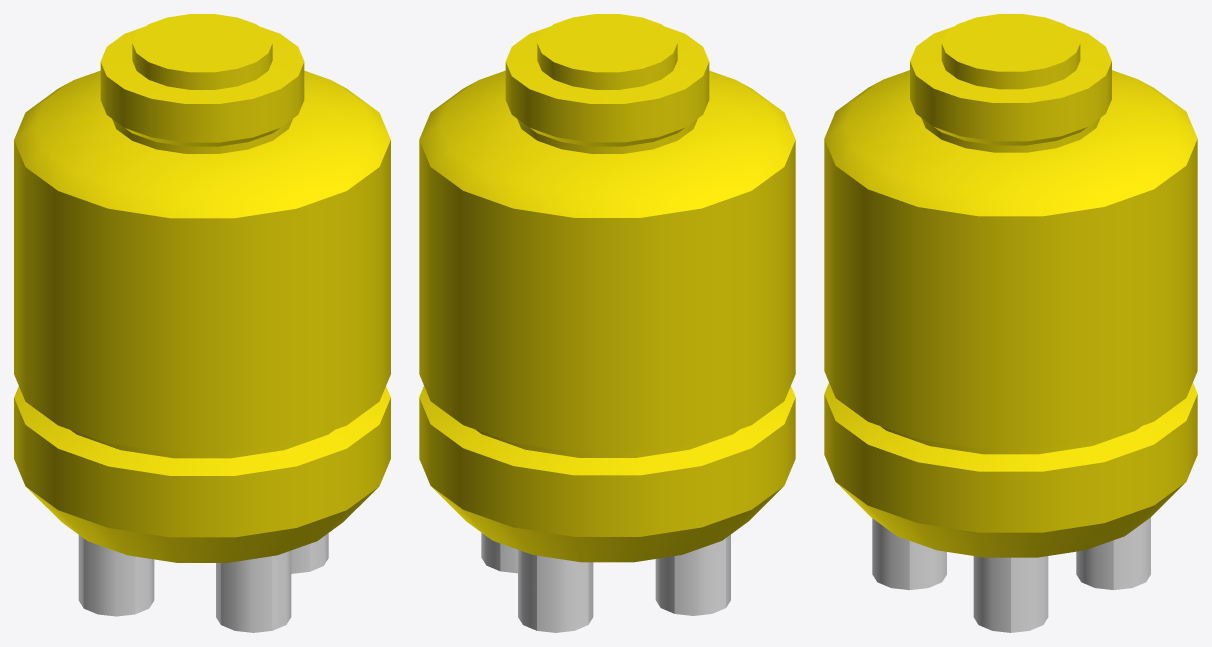
File: Capacitor_3_MotorrunGold.fbx
The picture shows the model from 3 angles, left to right: view 1: azimuth 30°, elevation 25°; view 2: azimuth 150°, elevation 25°; view 3: azimuth 270°, elevation 25°; orthographic projection.
Parts seen in each view (by area): view 1: Capacitor_3_MotorrunGold; view 2: Capacitor_3_MotorrunGold; view 3: Capacitor_3_MotorrunGold.
Boxes of the visible parts, bbox=[...] form: Capacitor_3_MotorrunGold: bbox=[14, 14, 390, 632]; Capacitor_3_MotorrunGold: bbox=[419, 14, 795, 632]; Capacitor_3_MotorrunGold: bbox=[824, 14, 1197, 632].
Bounding box in the file's own units: 30.58 × 48.77 × 31.05.
